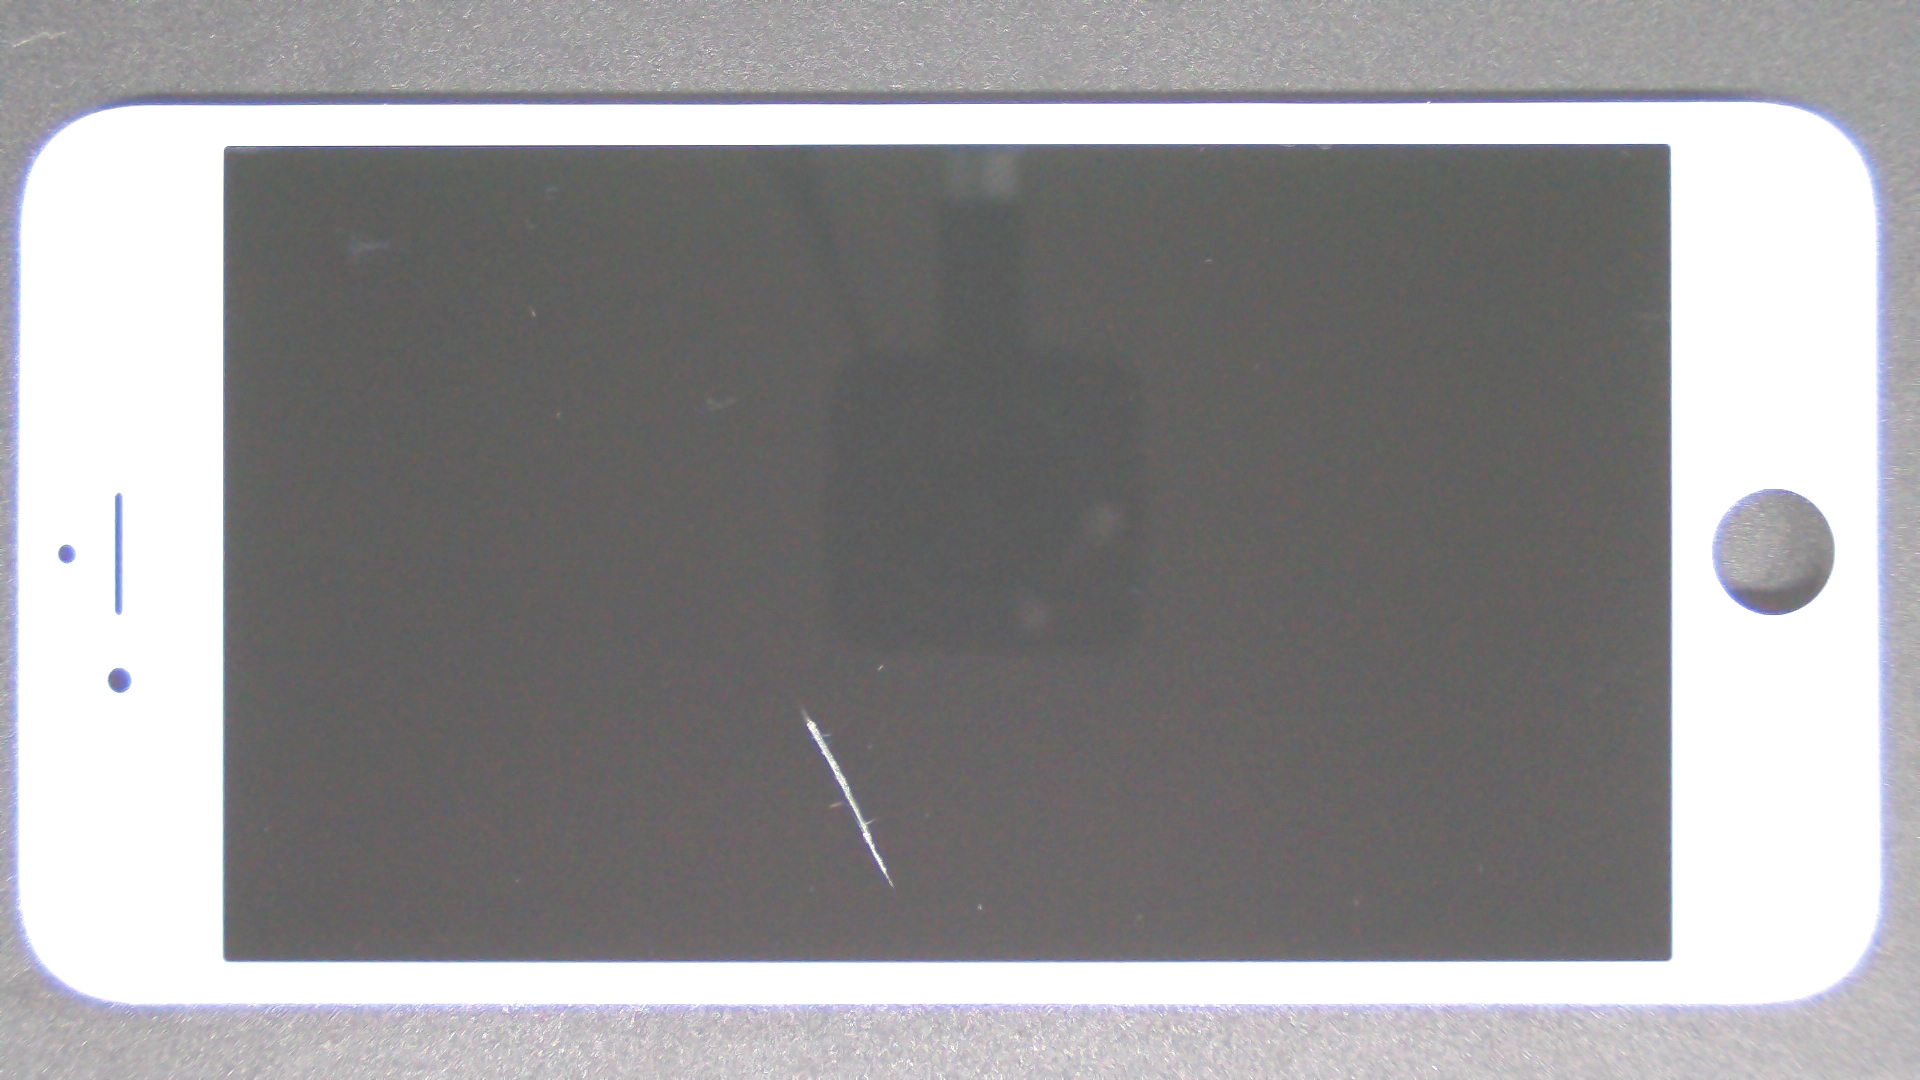oil: (400, 353, 1200, 1063)
